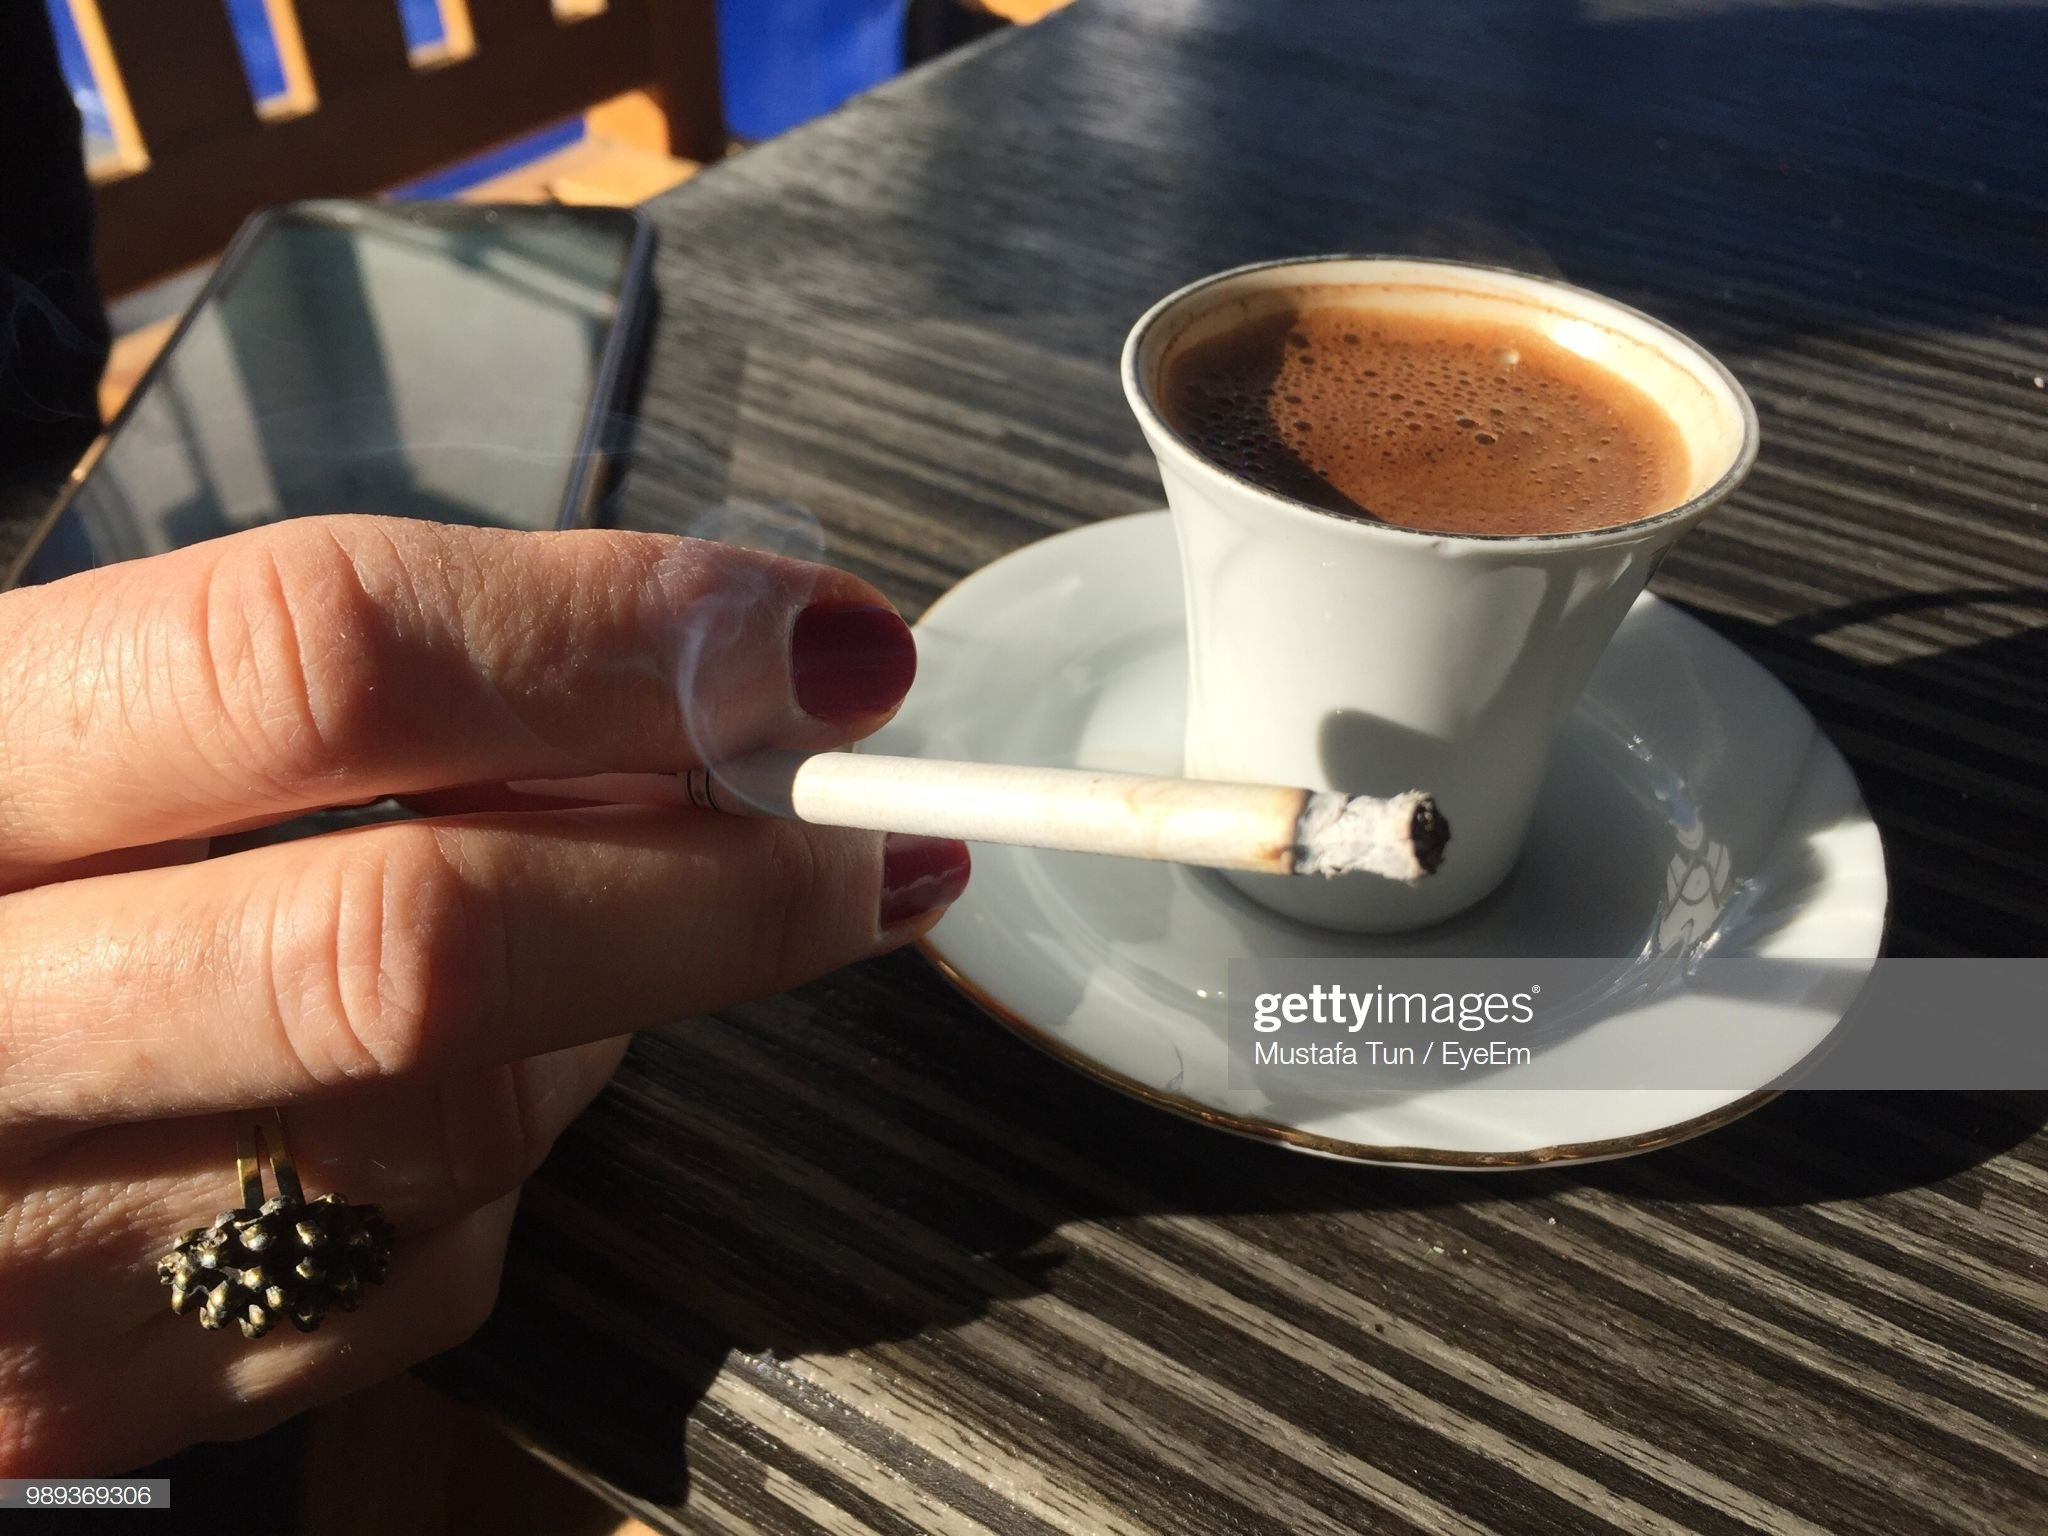sigaretta: (734, 721, 1442, 878)
